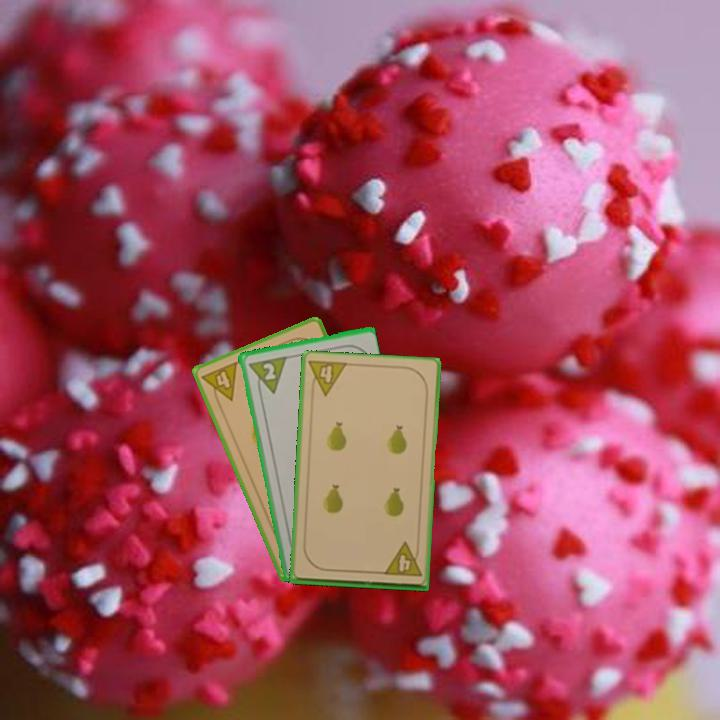2p: (244, 352, 288, 399)
4p: (198, 358, 241, 409), (305, 357, 350, 399), (380, 540, 424, 579)
